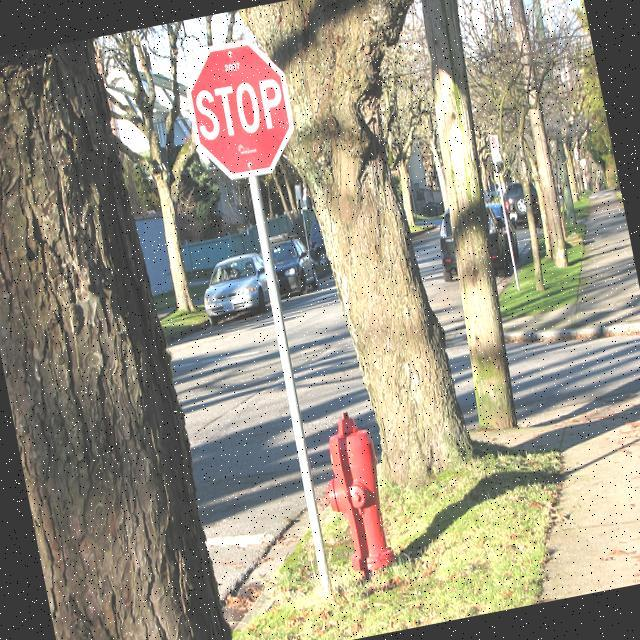fire_hydrant: (308, 408, 398, 578)
